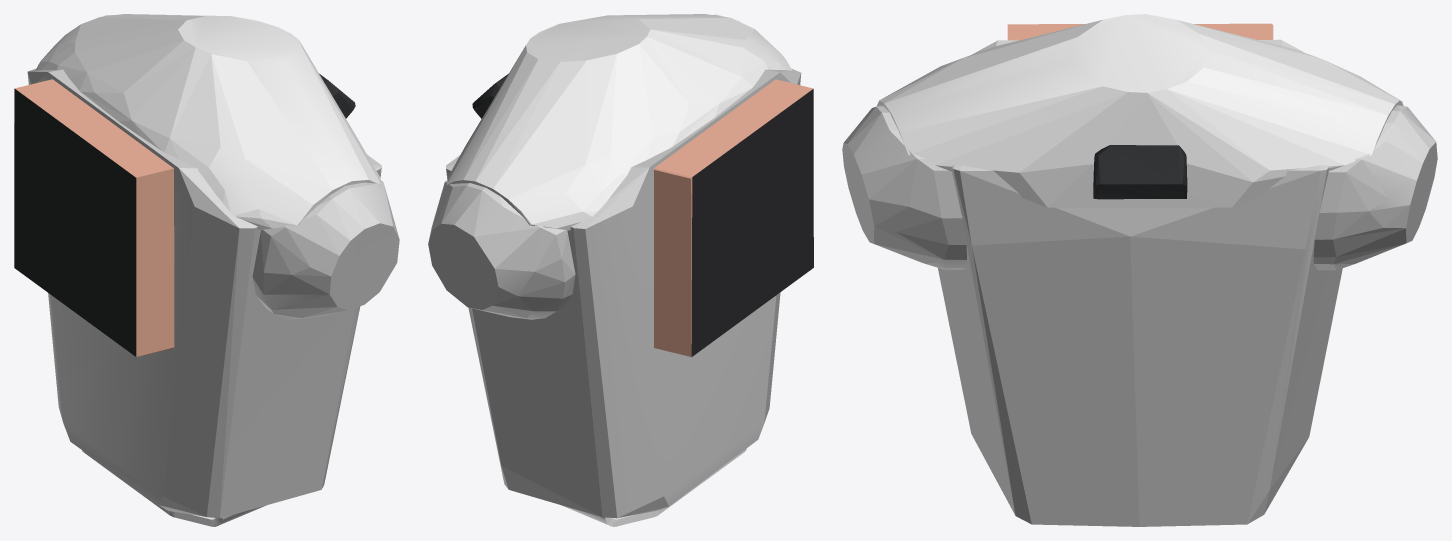
File: torso_collider.dae
The picture shows the model from 3 angles, left to right: view 1: azimuth 30°, elevation 25°; view 2: azimuth 150°, elevation 25°; view 3: azimuth 270°, elevation 25°; orthographic projection. The views are drawn at different scales.
Visible parts, largest first — view 1: logo_main_triangle.001, top_shell, Enclosure Tile.008, MP00060_Basement Plate.002, Object.2190, 606-00021-SR_Back cover_PY074.001; view 2: logo_main_triangle.001, top_shell, Enclosure Tile.008, MP00060_Basement Plate.002, Object.2190, 606-00021-SR_Back cover_PY074.001; view 3: logo_main_triangle.001, top_shell, MP00060_Basement Plate.002, 606-00021-SR_Back cover_PY074.001, Enclosure Tile.008.
Part boxes in pixels (box(x1,y1,x2,y2)): logo_main_triangle.001: box(27, 68, 381, 518); top_shell: box(36, 14, 381, 230); Enclosure Tile.008: box(14, 79, 174, 356); MP00060_Basement Plate.002: box(103, 15, 399, 319); Object.2190: box(82, 450, 266, 526); 606-00021-SR_Back cover_PY074.001: box(319, 73, 355, 118); logo_main_triangle.001: box(446, 68, 801, 518); top_shell: box(446, 14, 792, 230); Enclosure Tile.008: box(654, 79, 813, 356); MP00060_Basement Plate.002: box(428, 14, 739, 319); Object.2190: box(562, 448, 746, 526); 606-00021-SR_Back cover_PY074.001: box(472, 74, 508, 118); logo_main_triangle.001: box(938, 39, 1342, 526); top_shell: box(877, 14, 1403, 207); MP00060_Basement Plate.002: box(842, 105, 1437, 270); 606-00021-SR_Back cover_PY074.001: box(1093, 145, 1187, 199); Enclosure Tile.008: box(1007, 23, 1273, 40).
Bounding box in the file's own units: 0.1971 × 0.3579 × 0.3079.
